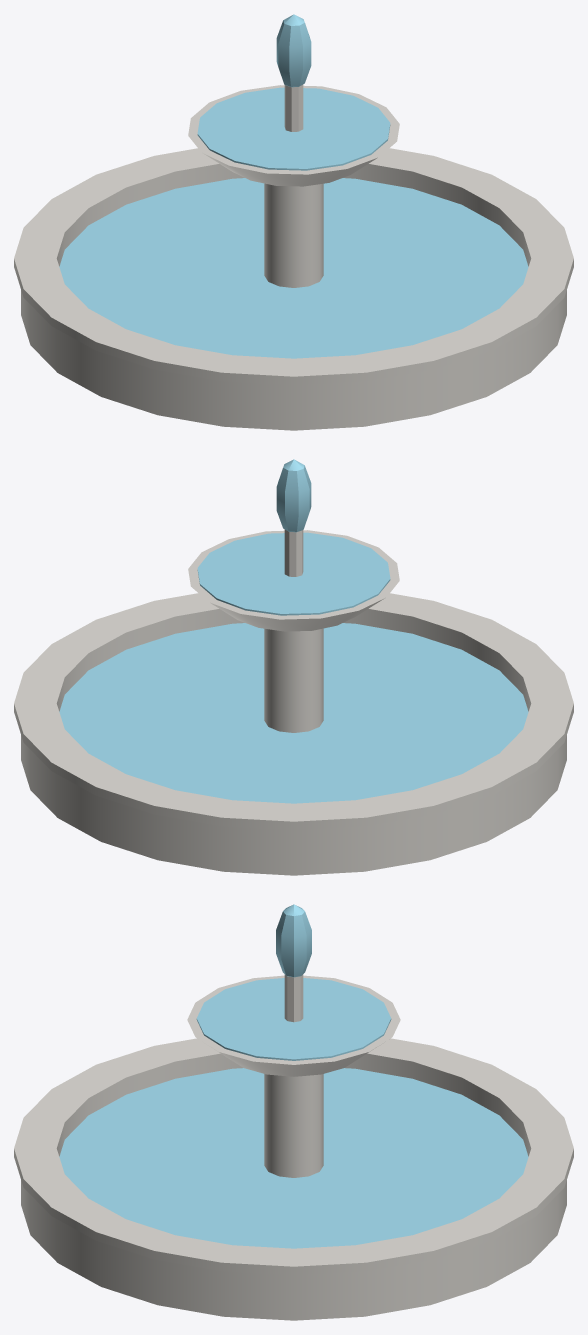
Rendered from fountain.glb.
The picture shows the model from 3 angles, top to bottom: view 1: azimuth 30°, elevation 25°; view 2: azimuth 150°, elevation 25°; view 3: azimuth 270°, elevation 25°; orthographic projection.
Parts seen in each view (by area): view 1: body; view 2: body; view 3: body.
Part boxes in pixels (left/top/right/bottom): body: left=14, top=14, right=573, bottom=430; body: left=14, top=459, right=573, bottom=875; body: left=14, top=904, right=573, bottom=1320.
Bounding box in the file's own units: 4.72 × 2.8 × 4.72.
